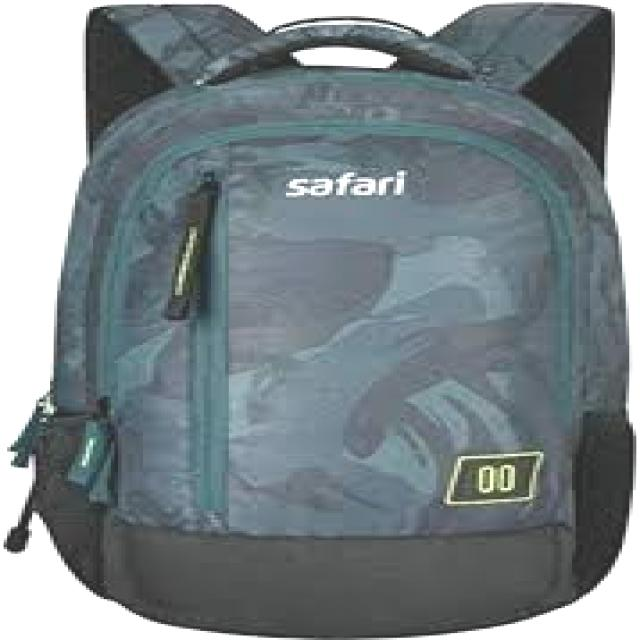backpack: (1, 1, 634, 639)
